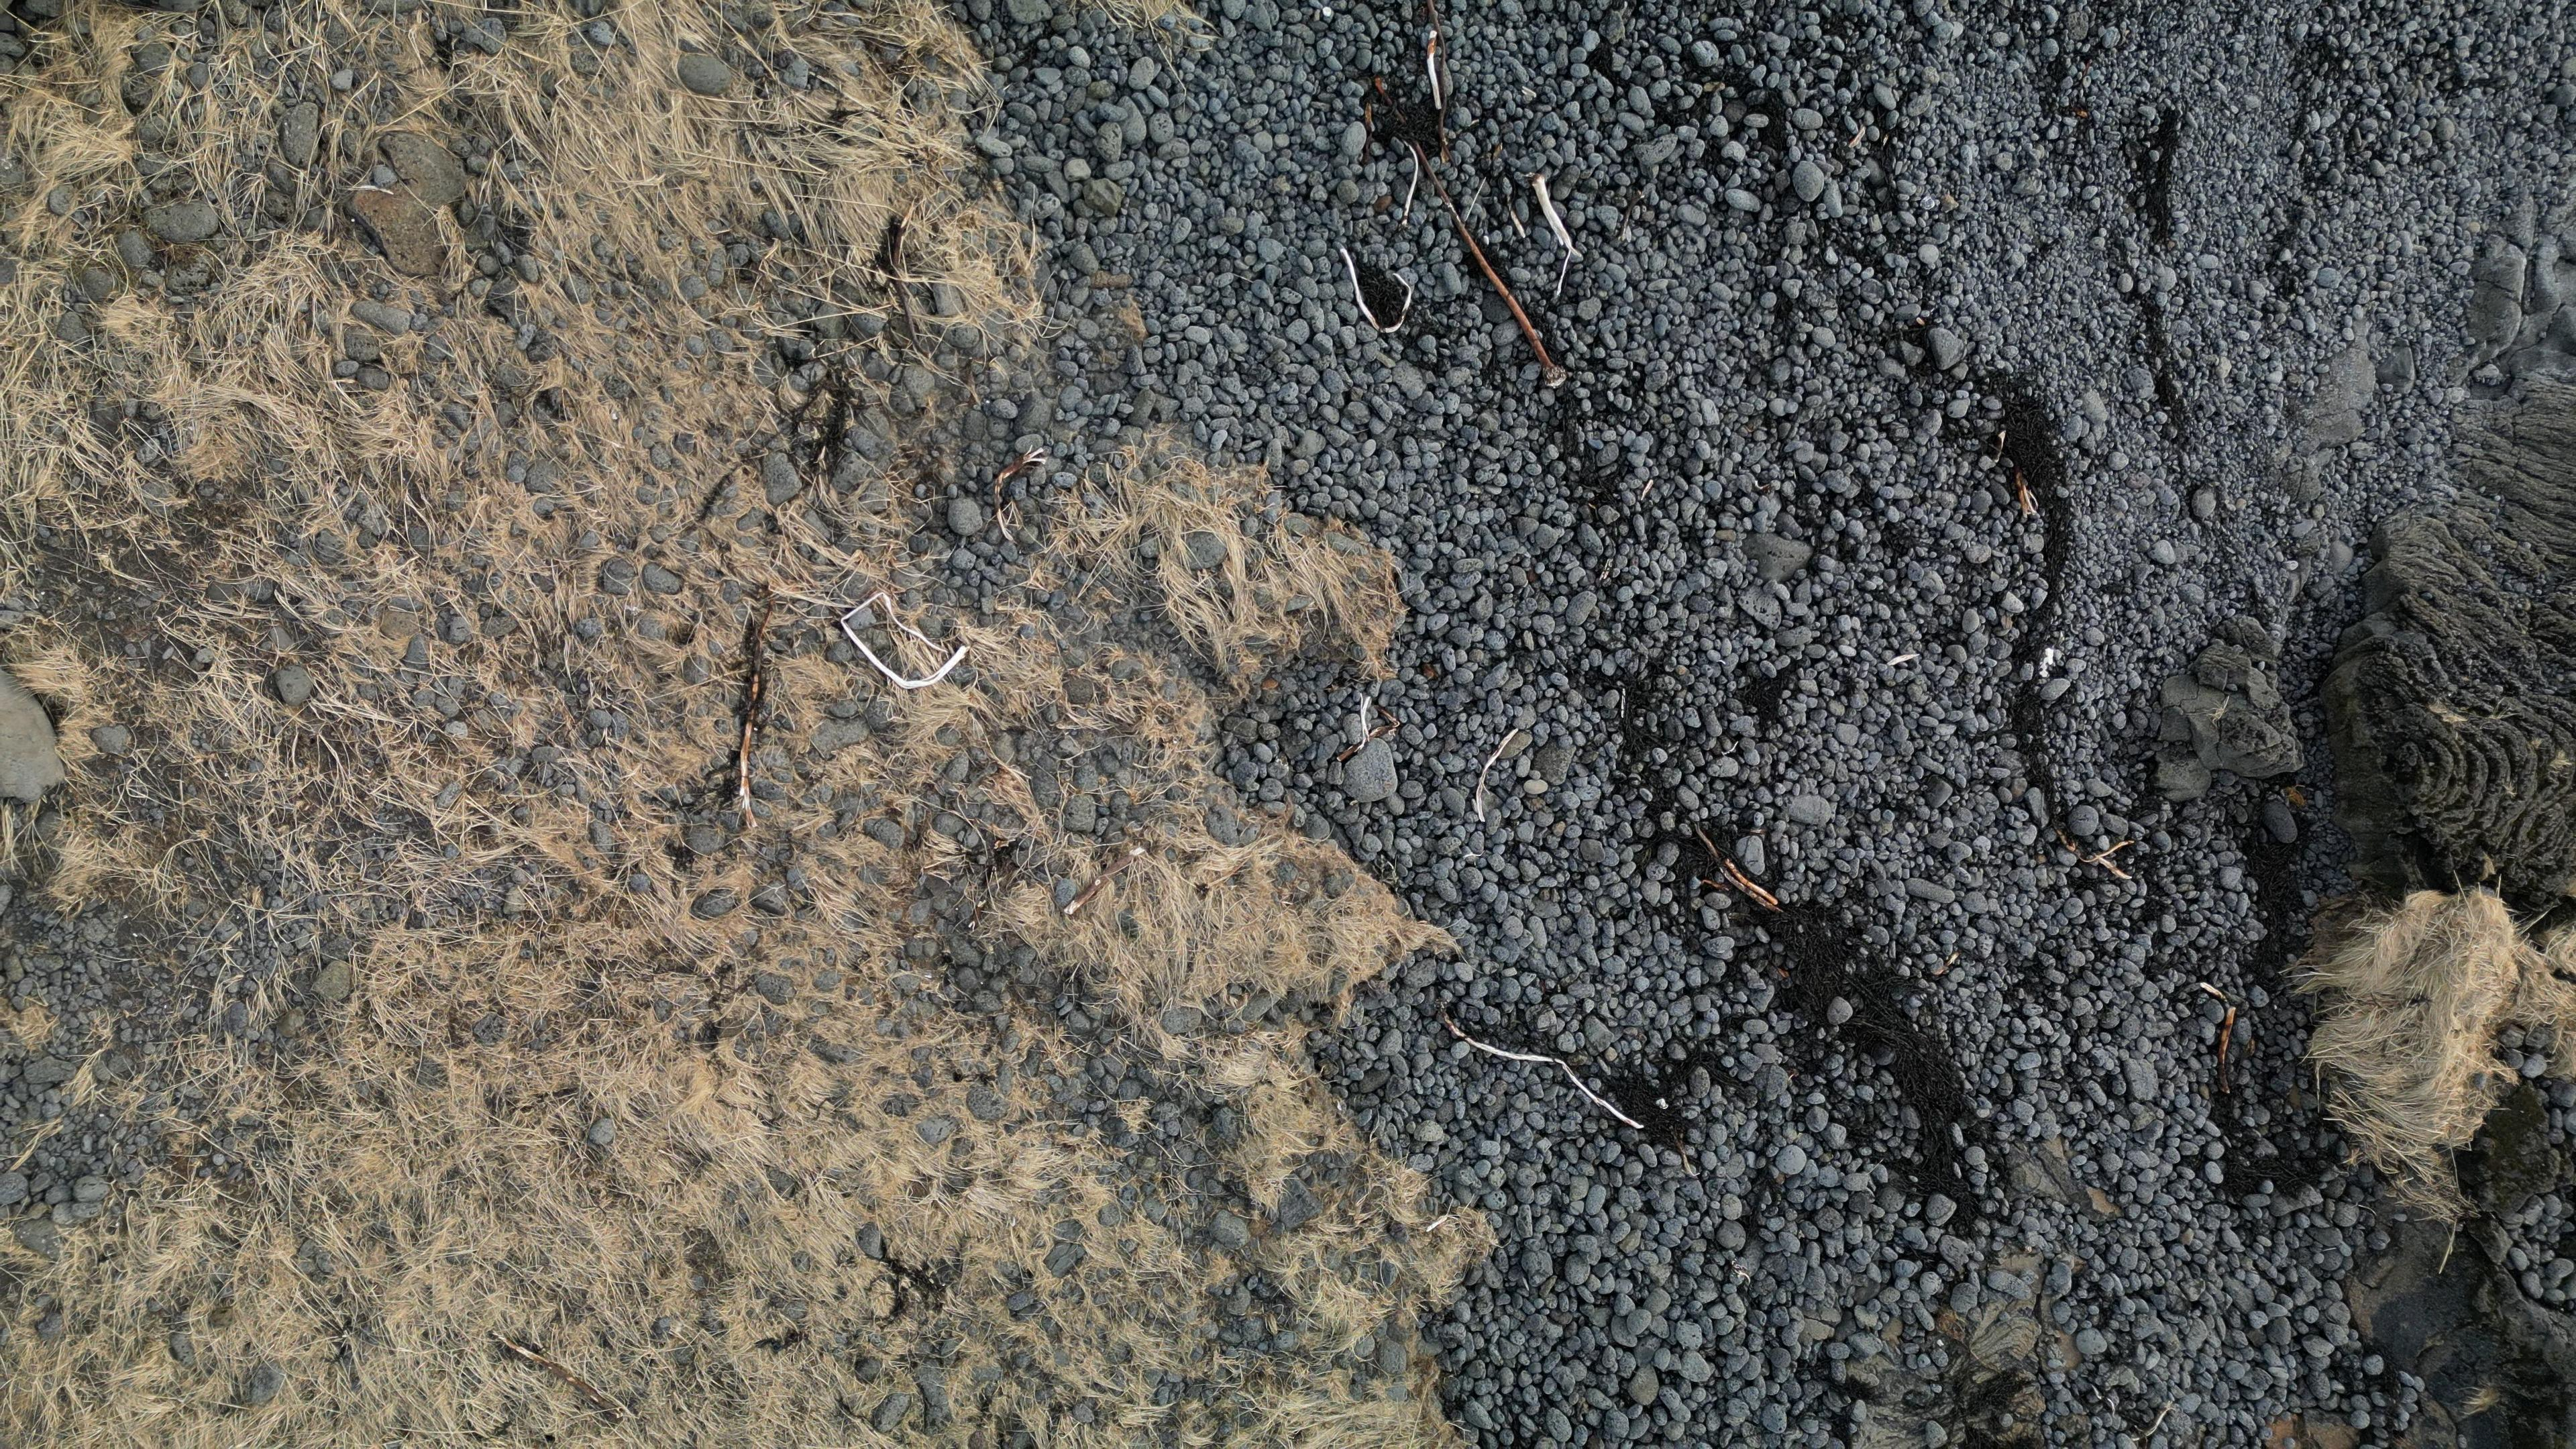trash: (840, 589, 966, 690)
